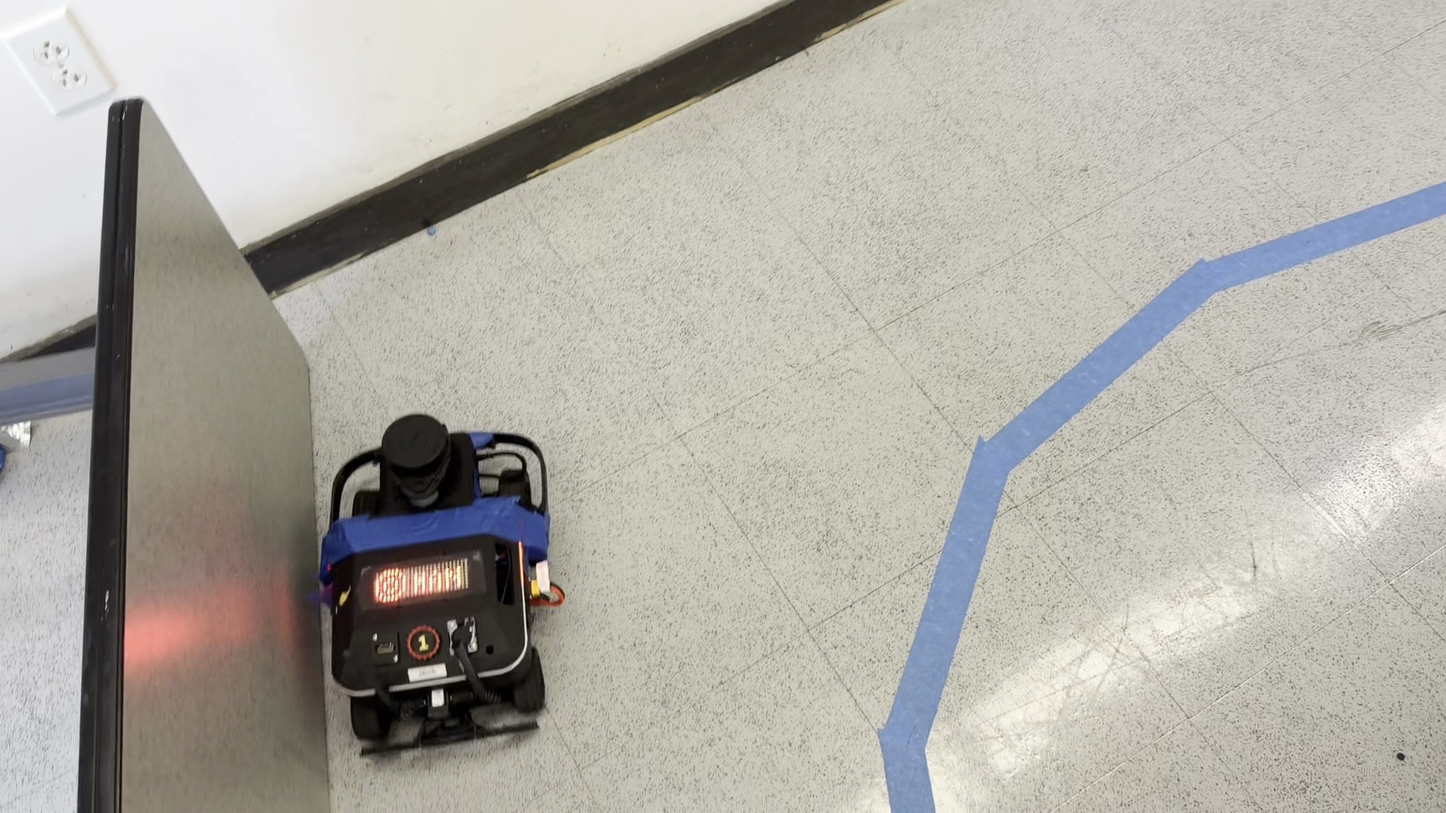racecar: (311, 423, 563, 752)
